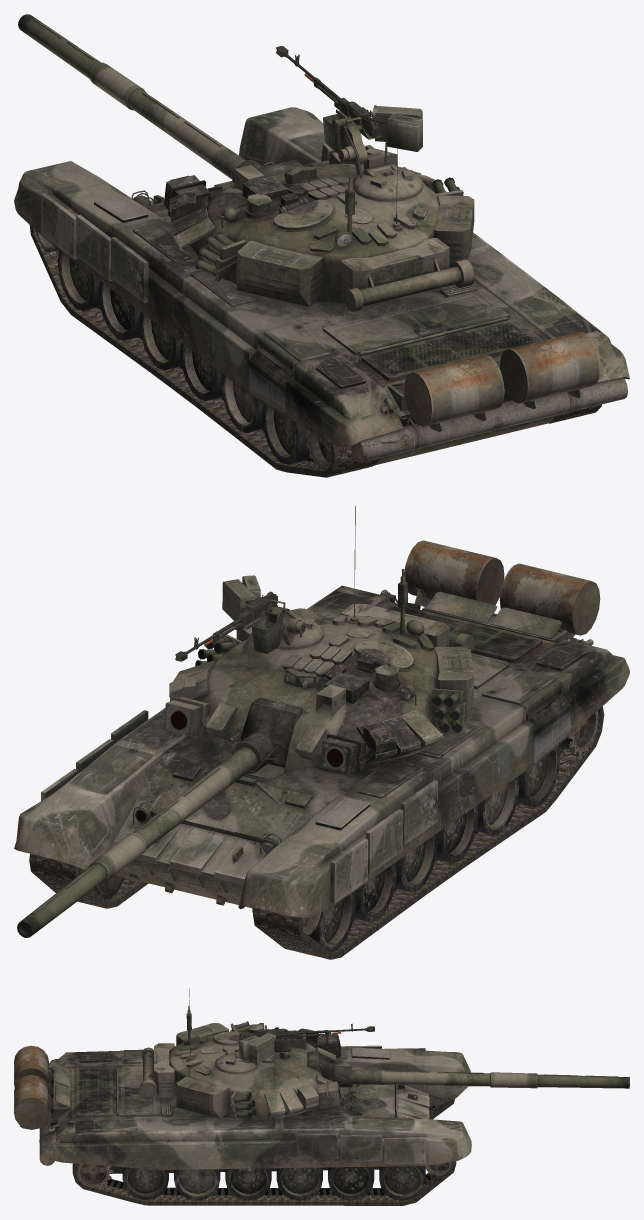
3 views of the same model, one above another, from view 1: azimuth 30°, elevation 25°; view 2: azimuth 150°, elevation 25°; view 3: azimuth 270°, elevation 25° (orthographic). The views are drawn at different scales.
Parts seen in each view (by area): view 1: ChassisTread, Turret, ChassisBody, MachineGun; view 2: ChassisTread, Turret, ChassisBody, MachineGun; view 3: ChassisTread, Turret, ChassisBody, MachineGun.
Part boxes in pixels (x1,y1,x2,y2): ChassisTread: (14, 107, 629, 477); Turret: (18, 14, 474, 311); ChassisBody: (131, 162, 555, 465); MachineGun: (276, 46, 381, 138); ChassisTread: (14, 540, 629, 959); Turret: (17, 506, 473, 937); ChassisBody: (109, 592, 567, 912); MachineGun: (175, 591, 277, 661); ChassisTread: (14, 1045, 471, 1205); Turret: (140, 988, 629, 1120); ChassisBody: (51, 1062, 429, 1173); MachineGun: (252, 1023, 374, 1043).
Bounding box in the file's own units: 3.48 × 10.06 × 3.31.
4 materials, 4 textured.
